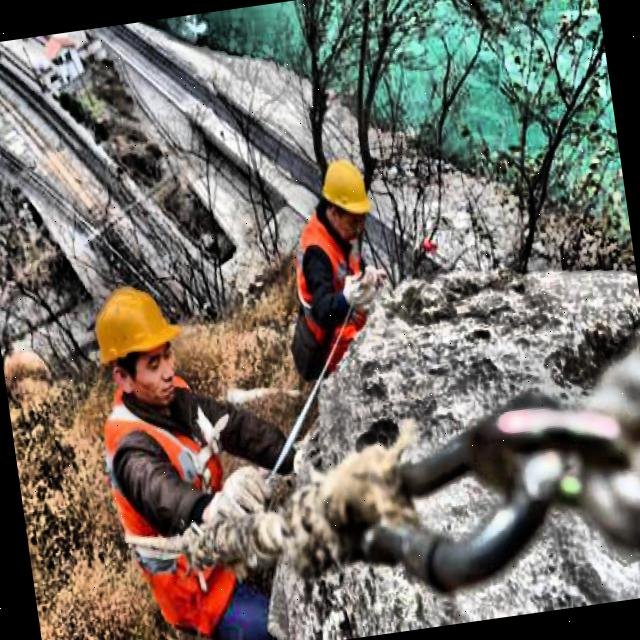helmet: (92, 274, 195, 412), (312, 152, 378, 250)
